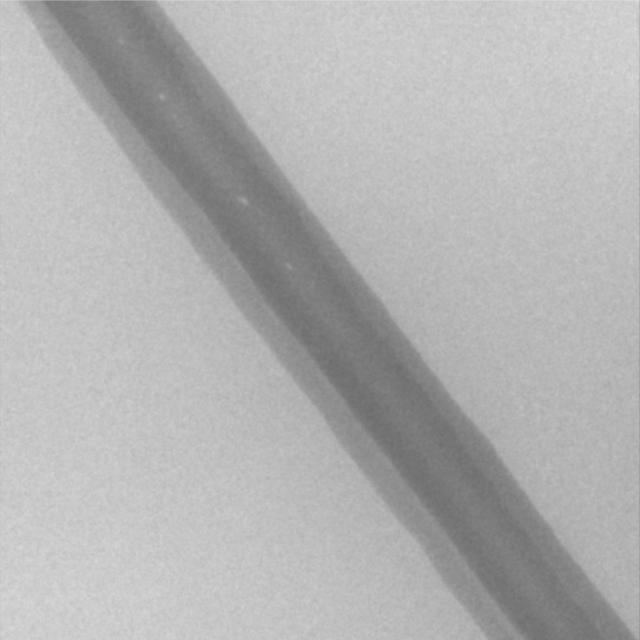air hole: (239, 196, 250, 206), (158, 92, 166, 102), (285, 263, 293, 271)
